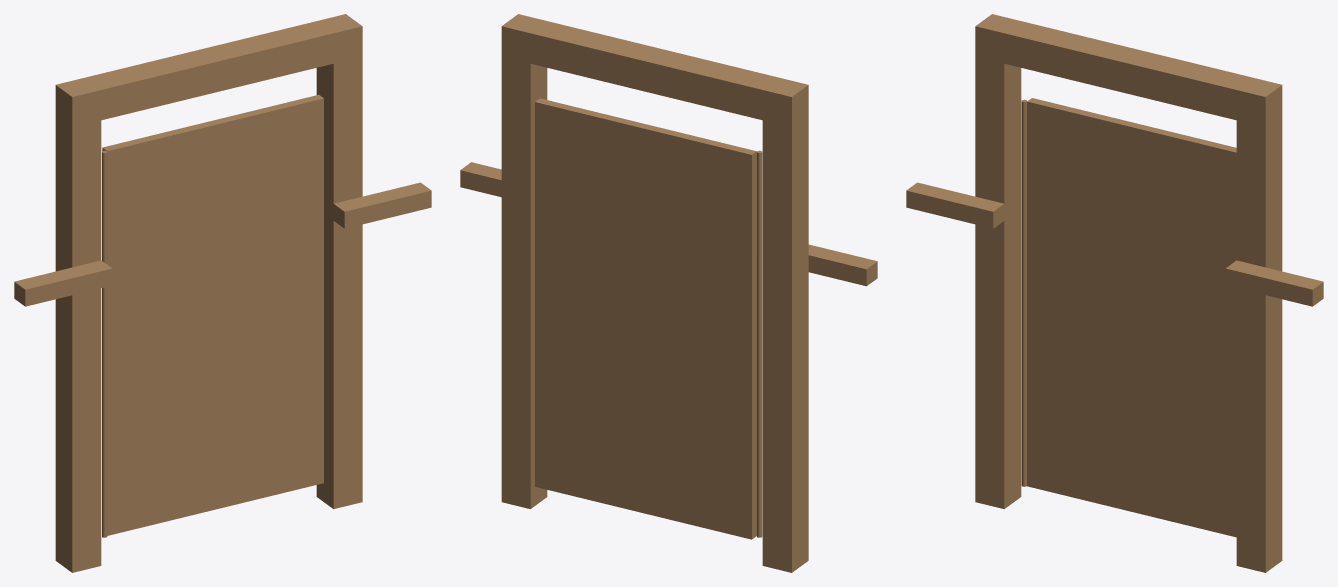
Rendered from assembly.glb.
The picture shows the model from 3 angles, left to right: view 1: azimuth 30°, elevation 25°; view 2: azimuth 150°, elevation 25°; view 3: azimuth 330°, elevation 25°; orthographic projection.
Visible parts, largest first — view 1: GATE_Door, GATE_Post_Left, GATE_Post_Right, GATE_Beam, GATE_Connector_Left, GATE_Connector_Right, GATE_Axis; view 2: GATE_Door, GATE_Post_Left, GATE_Post_Right, GATE_Beam, GATE_Axis, GATE_Connector_Left, GATE_Connector_Right; view 3: GATE_Door, GATE_Post_Left, GATE_Post_Right, GATE_Beam, GATE_Connector_Right, GATE_Connector_Left, GATE_Axis.
Boxes of the visible parts, x1=… form: GATE_Door: x1=102, y1=94, x2=323, y2=535; GATE_Post_Left: x1=55, y1=115, x2=101, y2=572; GATE_Post_Right: x1=316, y1=56, x2=362, y2=509; GATE_Beam: x1=55, y1=14, x2=362, y2=127; GATE_Connector_Left: x1=14, y1=260, x2=112, y2=306; GATE_Connector_Right: x1=333, y1=182, x2=431, y2=228; GATE_Axis: x1=102, y1=150, x2=107, y2=537; GATE_Door: x1=535, y1=98, x2=756, y2=539; GATE_Post_Left: x1=762, y1=115, x2=808, y2=572; GATE_Post_Right: x1=501, y1=57, x2=547, y2=508; GATE_Beam: x1=501, y1=14, x2=808, y2=127; GATE_Axis: x1=757, y1=150, x2=762, y2=537; GATE_Connector_Left: x1=808, y1=244, x2=877, y2=286; GATE_Connector_Right: x1=460, y1=162, x2=501, y2=197; GATE_Door: x1=1027, y1=98, x2=1236, y2=537; GATE_Post_Left: x1=975, y1=56, x2=1021, y2=509; GATE_Post_Right: x1=1236, y1=115, x2=1282, y2=572; GATE_Beam: x1=975, y1=14, x2=1282, y2=127; GATE_Connector_Right: x1=1225, y1=260, x2=1323, y2=306; GATE_Connector_Left: x1=906, y1=182, x2=1004, y2=228; GATE_Axis: x1=1021, y1=99, x2=1026, y2=486.
Size of the model in its own units: 2.1 by 2.35 by 0.249.
